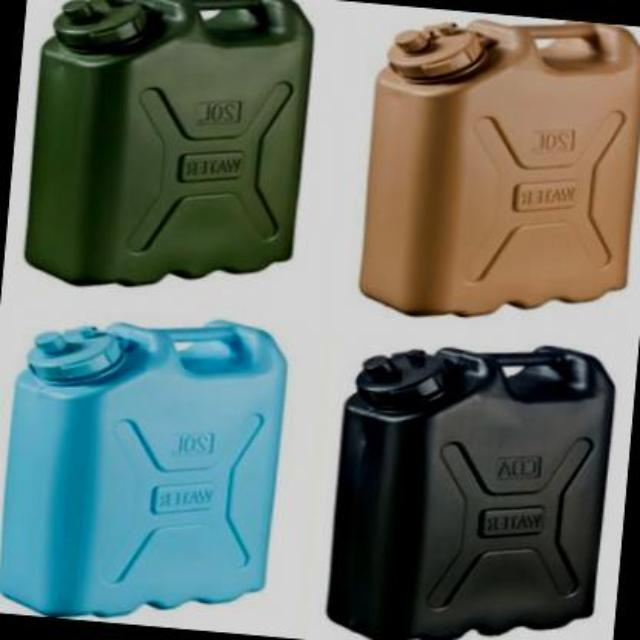chemical_plastic_gallon: (0, 297, 296, 637), (15, 0, 328, 314), (350, 3, 638, 341), (320, 328, 626, 638)
